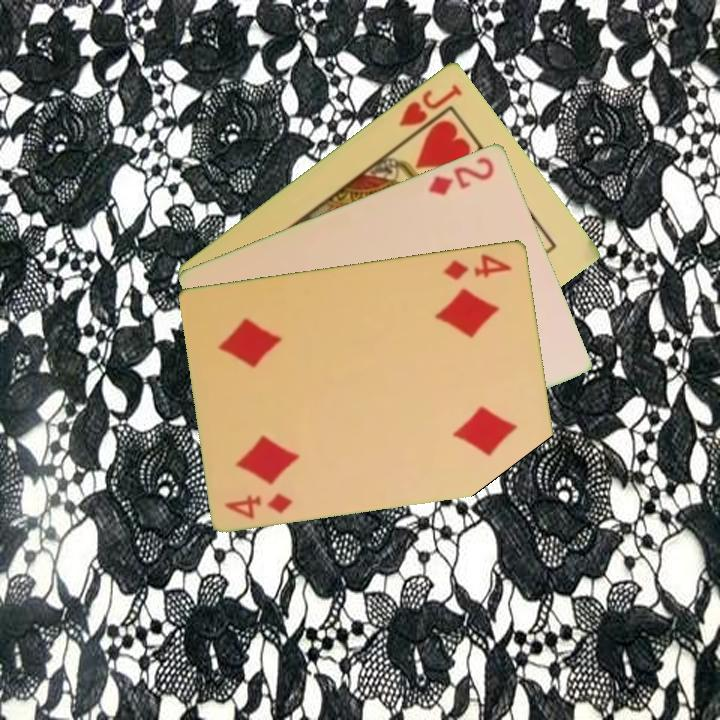2d: (425, 152, 497, 198)
4d: (439, 250, 515, 283), (221, 489, 296, 522)
Jh: (395, 79, 465, 143)
